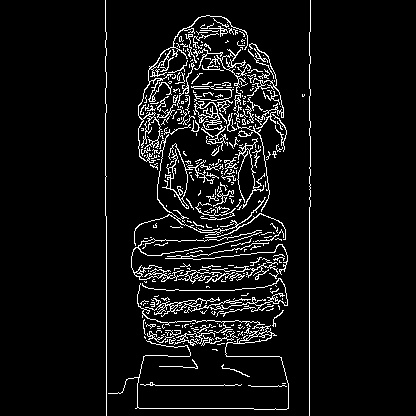buddha-sitting: (132, 16, 290, 343)
